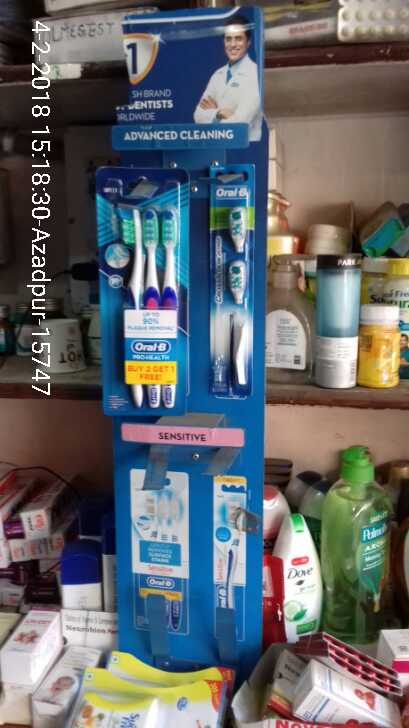oralb: (99, 197, 188, 415), (216, 199, 255, 387)
